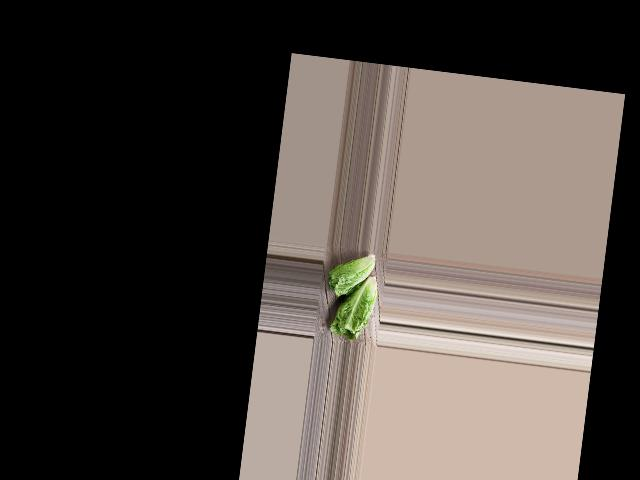lettuce: (322, 245, 378, 302)
